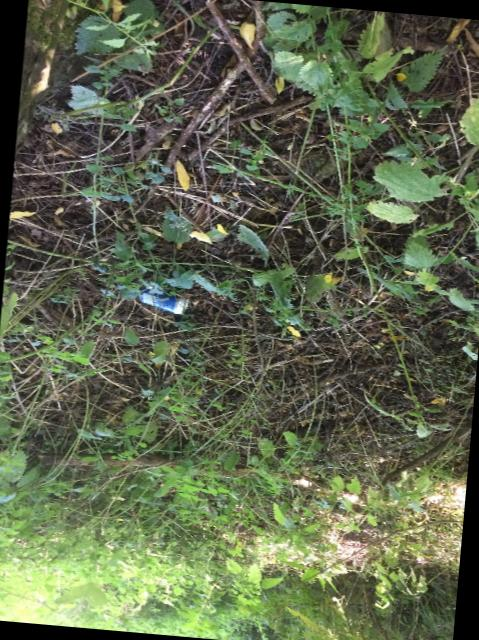metal: (138, 291, 188, 314)
